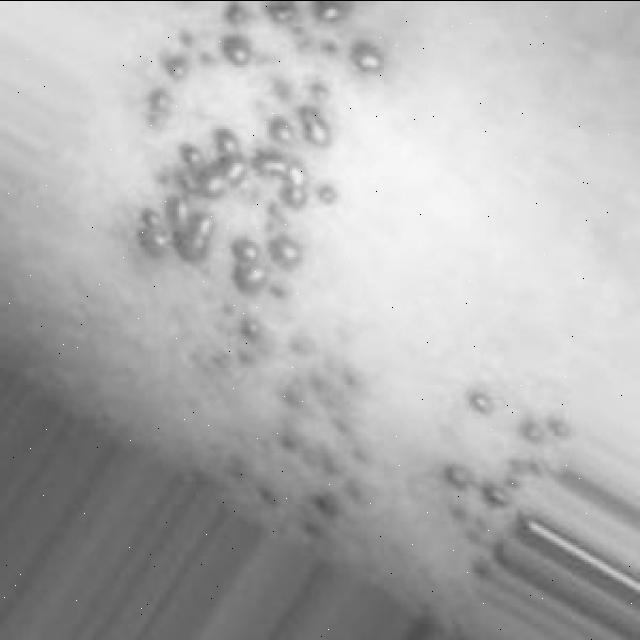Shingles: (140, 0, 384, 342), (192, 329, 378, 539), (428, 373, 571, 572)
